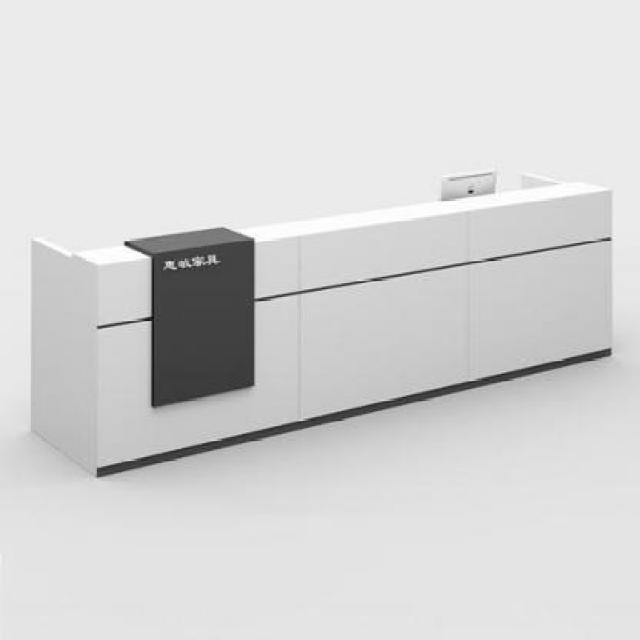frontdesk: (23, 163, 623, 484)
